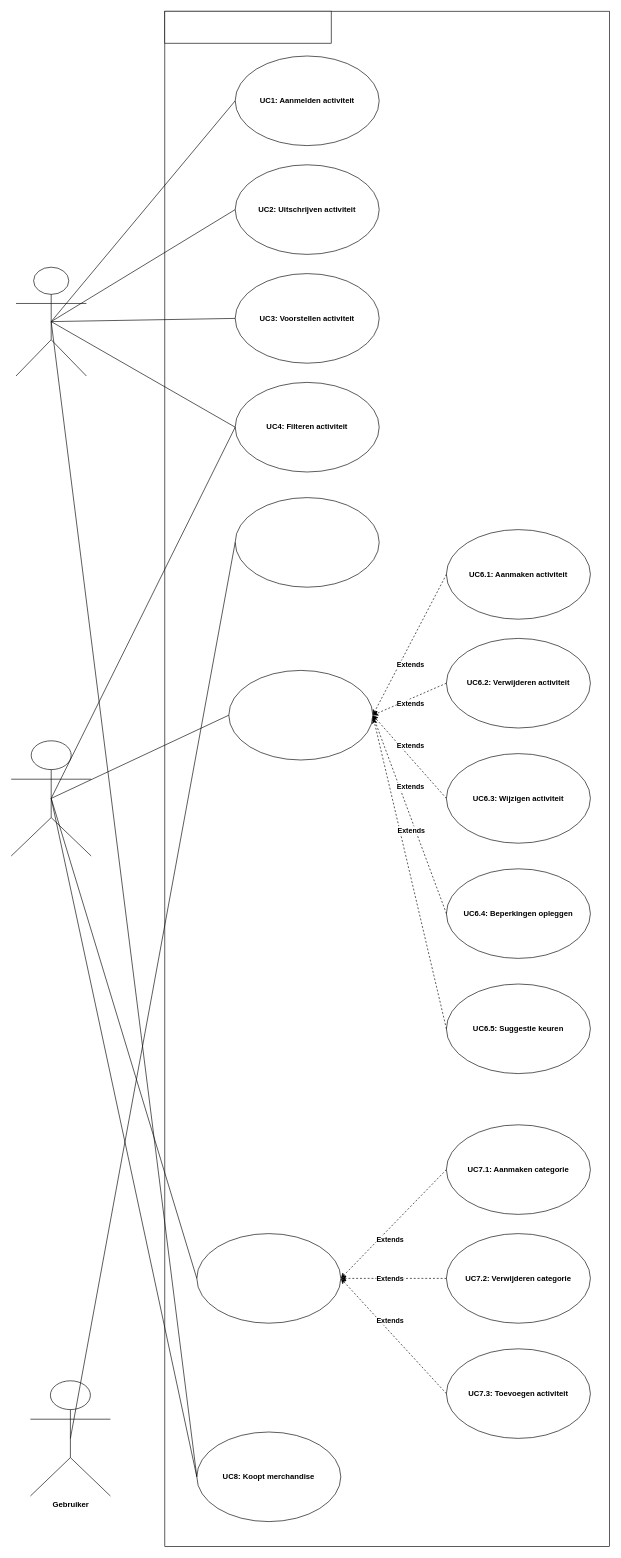
Some shapes in this 621 by 1558 pixel diagram are drawn without their labels. Each missing label, with the centre of its shape:
"Bestuur" belongs at (x=51, y=798).
"Lid" belongs at (x=50, y=321).
"Studievereniging Victuz Webpagina" belongs at (x=247, y=27).
"UC5: Aanmaken account" belongs at (x=307, y=542).
"UC6: Beheren activiteit" belongs at (x=300, y=715).
"UC7: Beheren categorie" belongs at (x=268, y=1278).
